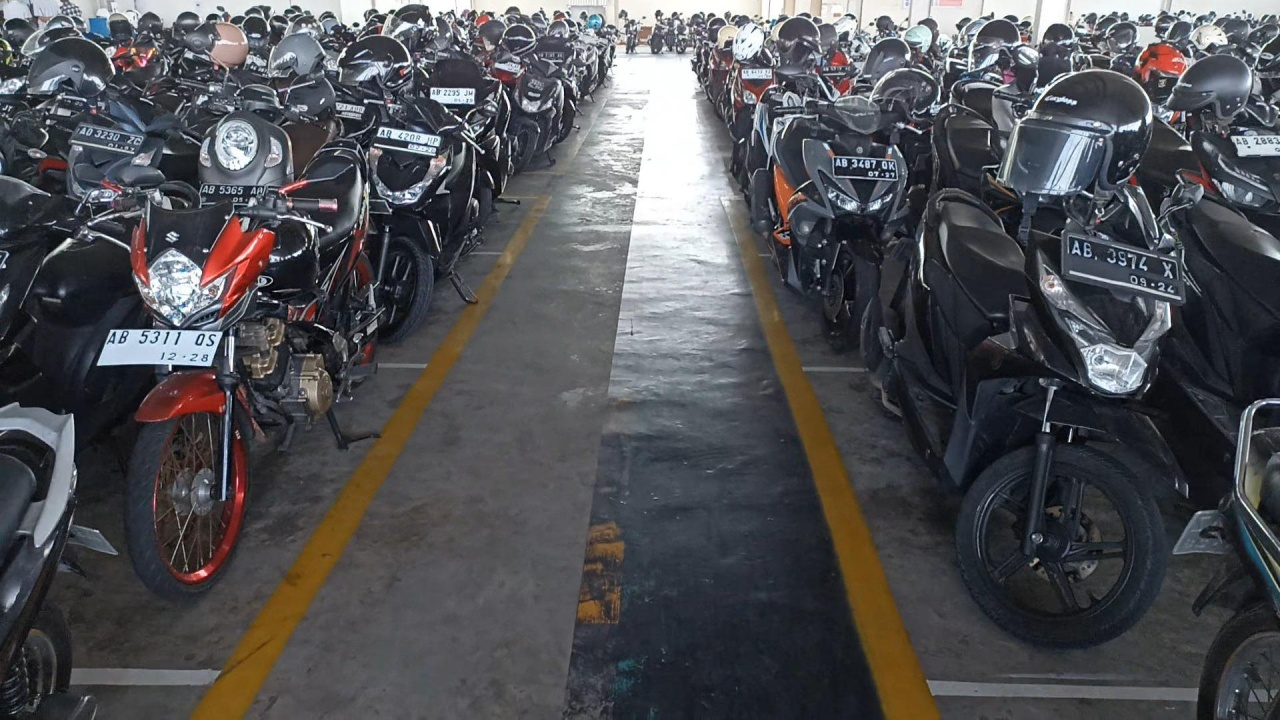plate: (1067, 233, 1182, 302), (97, 329, 224, 366), (69, 123, 145, 156), (373, 126, 443, 157), (833, 157, 898, 180), (430, 87, 475, 104)
